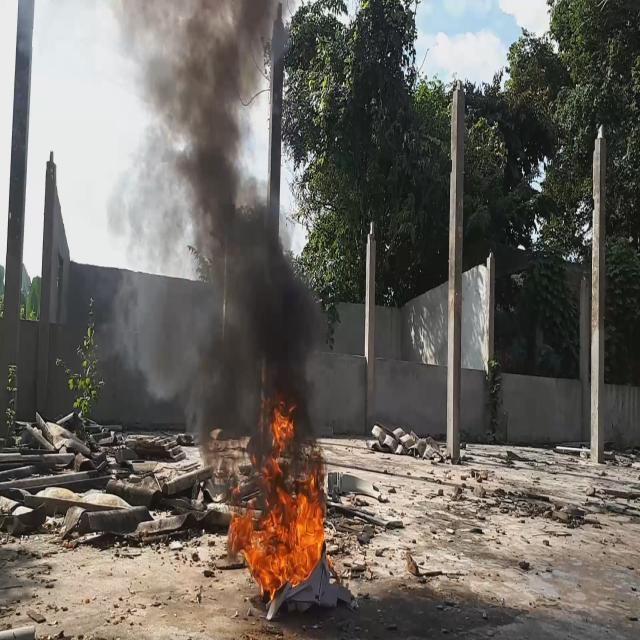Fire: (224, 403, 328, 608)
Smoke: (114, 0, 329, 496)
